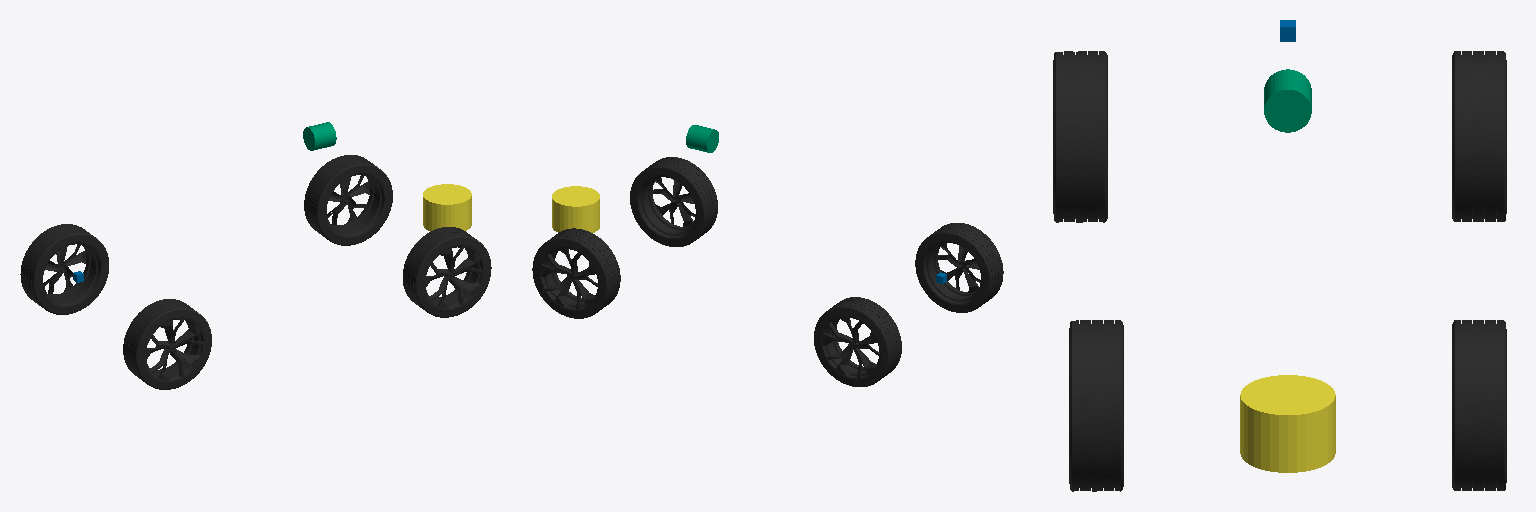
robot.urdf — car:
<?xml version="1.0"?>
<robot name="car">

   <material name="car_material">
      <color rgba="0.2 0.2 0.2 1.0"/>
   </material>
  

  
  <link name="base_link">
    <visual>
      <origin xyz="0.0 0.0 0.055" rpy="0.0 0.0 3.14"/>
      <geometry>
        <mesh filename="package://car_description/meshes/Body.stl" scale="0.0012 0.0012 0.0012"/>
      </geometry>
      <material name="car_material"/>
     
    </visual>
  </link>

  <link name="base_footprint">
  </link>

  <joint name="joint_footprint" type="fixed">
    <origin xyz="0.0 0.0 0.04" rpy="0.0 0.0 0.0"/>
    <parent link="base_footprint"/>
    <child link="base_link"/>
    <axis xyz="0.0 0.0 0.0"/>
  </joint>

  <link name="pylon_camera">
    <visual>
      <geometry>
        <cylinder radius="0.015" length="0.03"/>
      </geometry>
    </visual>
  </link>

  <joint name="joint_camera" type="fixed">
    <origin xyz="0.09 0.0 0.16" rpy="-1.57075 0.0 -1.57075"/>
    <parent link="base_link"/>
    <child link="pylon_camera"/>
    <axis xyz="0.0 0.0 0.0"/>
  </joint>

  <link name="laser">
    <visual>
      <geometry>
        <cylinder radius="0.03" length="0.04"/>
      </geometry>
    </visual>
  </link>

  <joint name="joint_laser" type="fixed">
    <origin xyz="0.27 0.0 0.02" rpy="3.1415 0.0 0.0"/>
    <parent link="base_link"/>
    <child link="laser"/>
  </joint>

  <link name="imu">
    <visual>
      <geometry>
        <box size="0.01 0.01 0.01"/>
      </geometry>
    </visual>
  </link>

  <joint name="joint_imu" type="fixed">
    <origin xyz="-0.25 0.0 0.05" rpy="0.0 0.0 0.0"/>
    <parent link="base_link"/>
    <child link="imu"/>
  </joint>

  <link name="us_left">
  </link>

  <joint name="joint_us_left" type="fixed">
    <origin xyz="0.1 0.15 0.01" rpy="0.0 0.0 1.57075"/>
    <parent link="base_link"/>
    <child link="us_left"/>
  </joint>

  <link name="us_right">
  </link>

  <joint name="joint_us_right" type="fixed">
    <origin xyz="0.1 -0.15 0.01" rpy="0.0 0.0 -1.57075"/>
    <parent link="base_link"/>
    <child link="us_right"/>
  </joint>

  <link name="us_rear_center">
  </link>

  <joint name="joint_us_rear_center" type="fixed">
    <origin xyz="-0.3 0 0.01" rpy="0.0 0.0 3.1415"/>
    <parent link="base_link"/>
    <child link="us_rear_center"/>
  </joint>

  <link name="us_rear_left">
  </link>

  <joint name="joint_us_rear_left" type="fixed">
    <origin xyz="-0.3 0.12 0.01" rpy="0.0 0.0 2.62"/>
    <parent link="base_link"/>
    <child link="us_rear_left"/>
  </joint>

  <link name="us_rear_right">
  </link>

  <joint name="joint_us_rear_right" type="fixed">
    <origin xyz="-0.3 -0.12 0.01" rpy="0.0 0.0 -2.62"/>
    <parent link="base_link"/>
    <child link="us_rear_right"/>
  </joint>
    
    <!-- Front Left Wheel (Fixed or Steerable) -->
  <link name="left_front_wheel">
      <visual>
       <geometry>
        <mesh filename="package://car_description/meshes/Wheel_Left.stl" scale="0.0012 0.0012 0.0012"/>
      </geometry>
      <material name="car_material"/>
    </visual>
  </link>

  <joint name="left_front_wheel_joint" type="continuous">
    <origin xyz="0.2 0.12 0.0" rpy="0.0 0.0 0.0"/>
    <parent link="base_link"/>
    <child link="left_front_wheel"/>
    <axis xyz="0 0 1"/>
  </joint>

  <!-- Front Right Wheel (Fixed or Steerable) -->
  <link name="right_front_wheel">
    <visual>
       <geometry>
        <mesh filename="package://car_description/meshes/Wheel_Right.stl" scale="0.0012 0.0012 0.0012"/>
      </geometry>
      <material name="car_material"/>
    </visual>
  </link>

  <joint name="right_front_wheel_joint" type="continuous">
    <origin xyz="0.2 -0.12 0.0" rpy="0.0 0.0 0.0"/>
    <parent link="base_link"/>
    <child link="right_front_wheel"/>
    <axis xyz="0 0 1"/>
  </joint>

  <!-- Rear Left Wheel (With Encoder) -->
  <link name="left_rear_wheel">
   <visual>
       <geometry>
        <mesh filename="package://car_description/meshes/Wheel_Left.stl" scale="0.0012 0.0012 0.0012"/>
      </geometry>
      <material name="car_material"/>
    </visual>
  </link>

  <joint name="left_rear_wheel_joint" type="continuous">
    <origin xyz="-0.2 0.12 0.0" rpy="0.0 0.0 0.0"/>
    <parent link="base_link"/>
    <child link="left_rear_wheel"/>
    <axis xyz="0 1 0"/>
  </joint>

  <!-- Rear Right Wheel (With Encoder) -->
  <link name="right_rear_wheel">
     <visual>
       <geometry>
        <mesh filename="package://car_description/meshes/Wheel_Right.stl" scale="0.0012 0.0012 0.0012"/>
      </geometry>
      <material name="car_material"/>
    </visual>
  </link>

  <joint name="right_rear_wheel_joint" type="continuous">
    <origin xyz="-0.2 -0.13 0.0" rpy="0.0 0.0 0.0"/>
    <parent link="base_link"/>
    <child link="right_rear_wheel"/>
    <axis xyz="0 1 0"/>
  </joint>


</robot>

--- Facts derived from the render (not from the file) ---
3 views of the same robot in one strip: view 1: azimuth 30°, elevation 25°; view 2: azimuth 150°, elevation 25°; view 3: azimuth 270°, elevation 25° (orthographic).
Robot: car — 14 links, 13 joints (4 continuous, 9 fixed); root link base_footprint; default pose: all joints at 0.
Visible links, largest first — view 1: right_rear_wheel, left_front_wheel, right_front_wheel, left_rear_wheel, laser, pylon_camera; view 2: left_front_wheel, right_front_wheel, left_rear_wheel, right_rear_wheel, laser, pylon_camera; view 3: right_front_wheel, left_front_wheel, left_rear_wheel, right_rear_wheel, laser, pylon_camera.
Boxes of the visible links, left/top/right/bottom form: right_rear_wheel: left=123, top=299, right=211, bottom=389; left_front_wheel: left=304, top=155, right=392, bottom=245; right_front_wheel: left=403, top=227, right=491, bottom=317; left_rear_wheel: left=20, top=224, right=108, bottom=314; laser: left=423, top=184, right=471, bottom=231; pylon_camera: left=303, top=122, right=336, bottom=150; left_front_wheel: left=532, top=228, right=620, bottom=318; right_front_wheel: left=630, top=157, right=717, bottom=246; left_rear_wheel: left=814, top=297, right=901, bottom=386; right_rear_wheel: left=915, top=223, right=1003, bottom=312; laser: left=552, top=186, right=599, bottom=232; pylon_camera: left=686, top=125, right=718, bottom=152; right_front_wheel: left=1069, top=320, right=1123, bottom=491; left_front_wheel: left=1452, top=320, right=1506, bottom=490; left_rear_wheel: left=1452, top=51, right=1506, bottom=221; right_rear_wheel: left=1053, top=51, right=1107, bottom=222; laser: left=1240, top=375, right=1335, bottom=472; pylon_camera: left=1264, top=69, right=1311, bottom=132.
Size in the robot's own frame: 0.555 by 0.2857 by 0.2288 metres.
Meshes: 3 distinct files referenced, 4 mesh visuals loaded (2 binary STL); not drawn: 1 (reference not matched to a file when rendering).